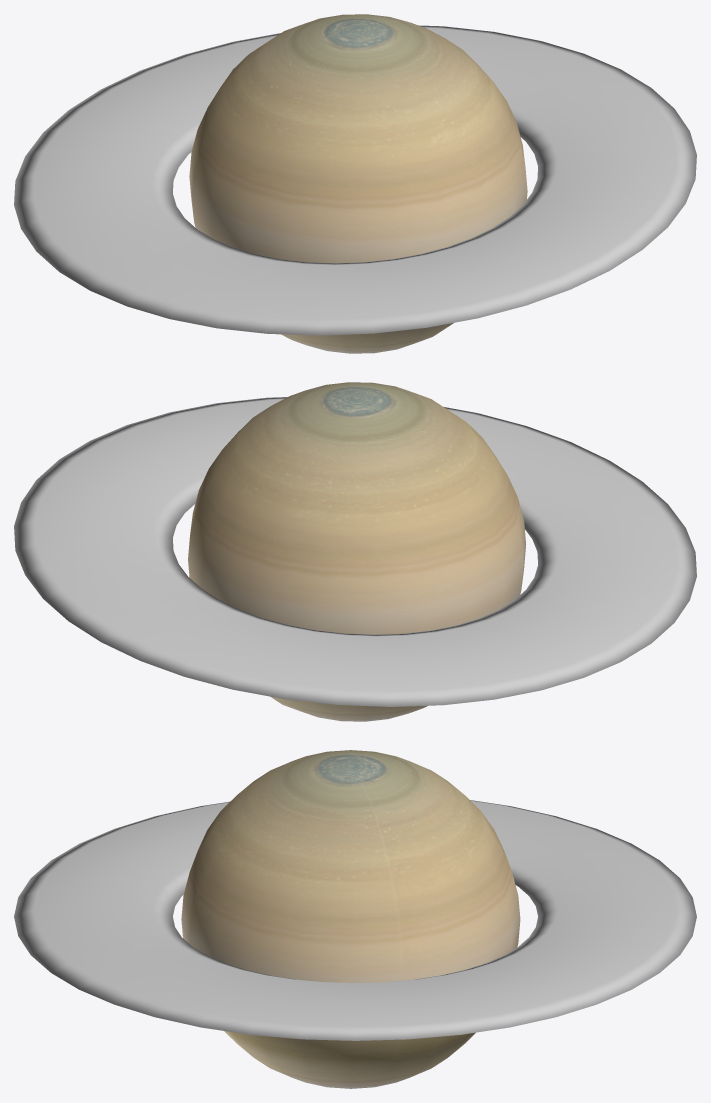
Rendered from Saturn.fbx.
The picture shows the model from 3 angles, top to bottom: view 1: azimuth 30°, elevation 25°; view 2: azimuth 150°, elevation 25°; view 3: azimuth 270°, elevation 25°; orthographic projection.
Visible parts, largest first — view 1: Saturn_Ring, Saturn; view 2: Saturn_Ring, Saturn; view 3: Saturn_Ring, Saturn.
Part boxes in pixels (x1,y1,x2,y2): Saturn_Ring: [14, 25, 696, 335]; Saturn: [189, 14, 527, 353]; Saturn_Ring: [14, 397, 696, 706]; Saturn: [188, 382, 525, 721]; Saturn_Ring: [14, 800, 696, 1040]; Saturn: [181, 750, 520, 1088].
Size of the model in its own units: 90.81 by 45.17 by 90.99.
